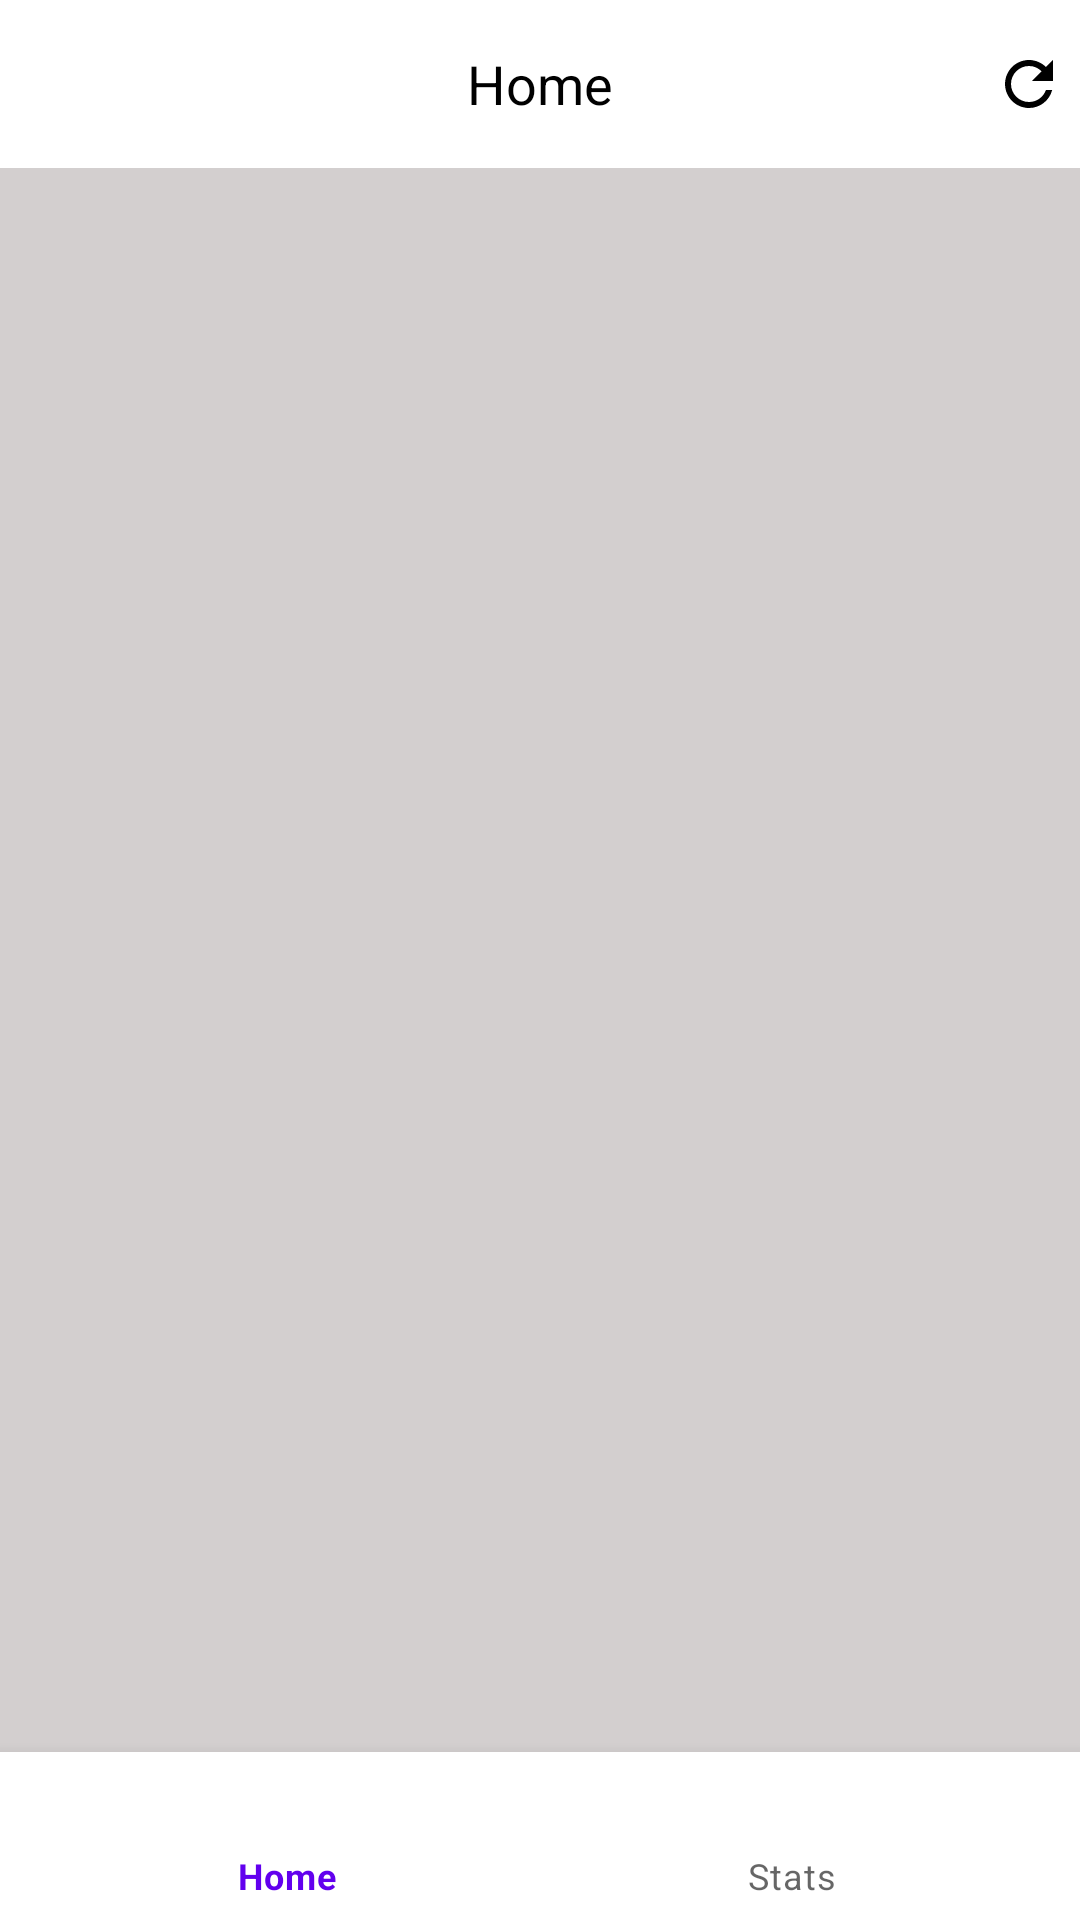

Named icons in this screenshot (1080×1920) and their bounding boxes, (x1, y1, x2, y2):
refresh: (1005, 60, 1053, 108)
